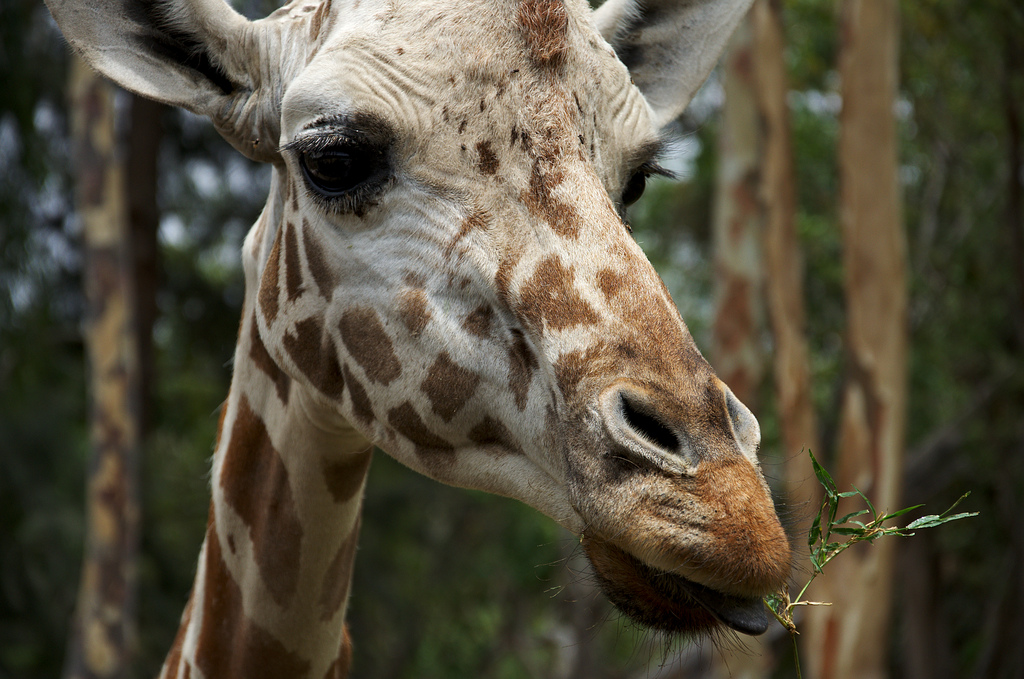giraffe: (131, 24, 826, 647)
